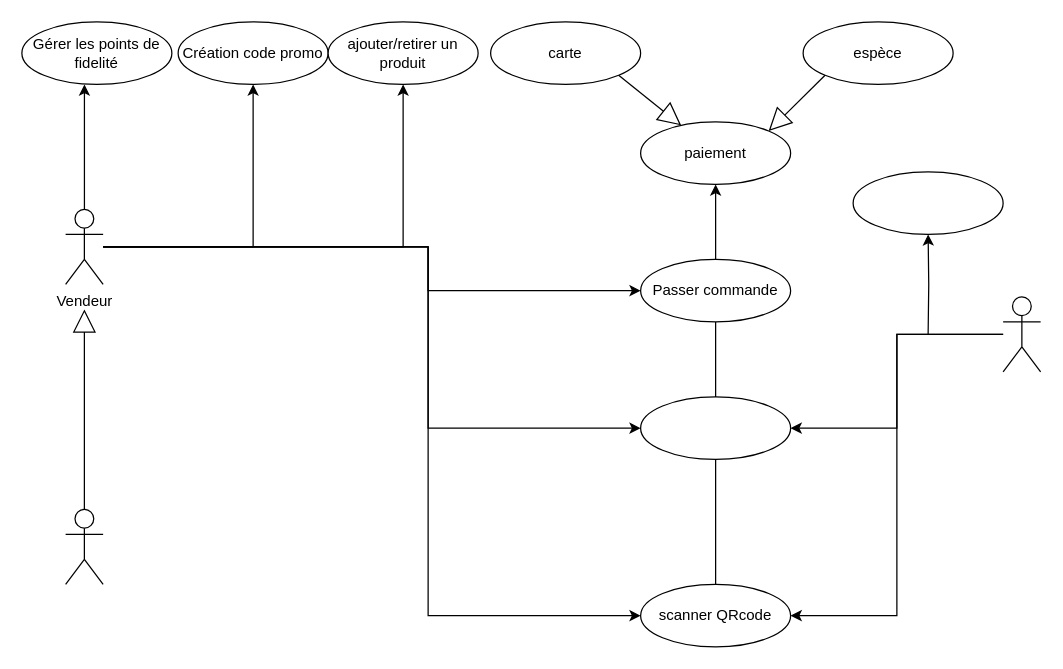
The diagram is 1063 pixels wide and 669 high, and some of its shapes have lost their labels. The shapes that lost their labels are listed below. From the top down, each one's centre as x and y in pixels, then its label:
the point at 927,202: choix de la commande
the point at 1021,334: Client
the point at 715,427: identification
the point at 83,546: Administrateur
